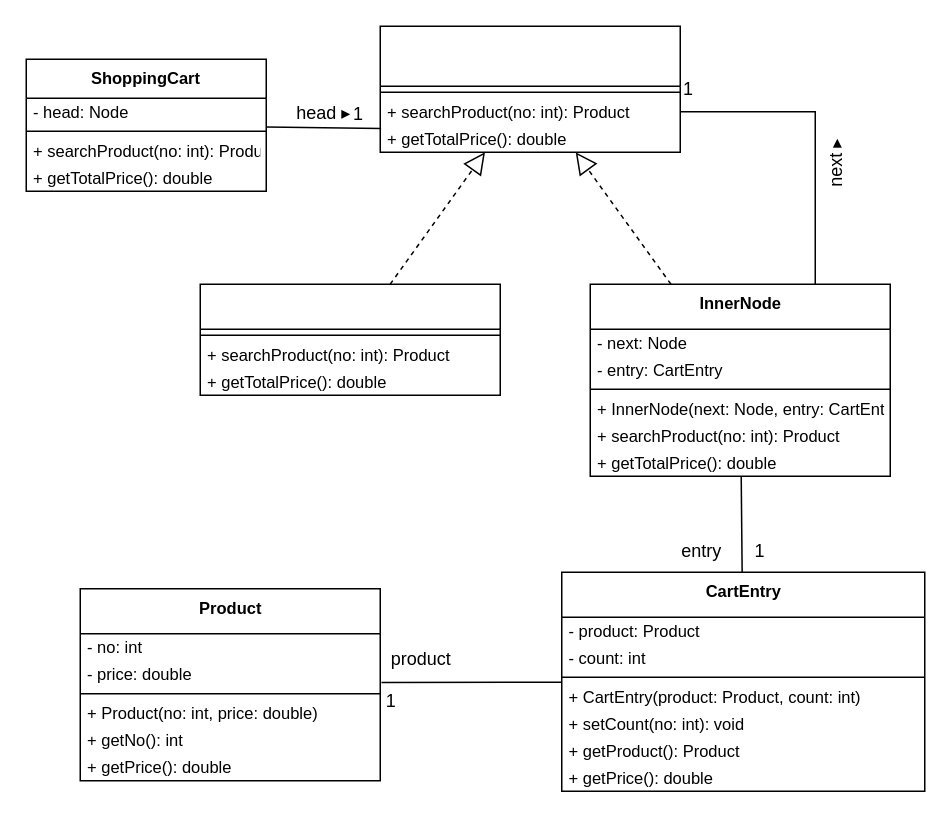
Some shapes in this 951 by 818 pixel diagram are drawn without their labels. The shapes that lost their labels are listed below. From the top down, each one's box as (x1, y1, x2, y2) in pixels, then its label:
(379, 25, 680, 152): «interface» Node
(199, 283, 500, 395): LeafNode
